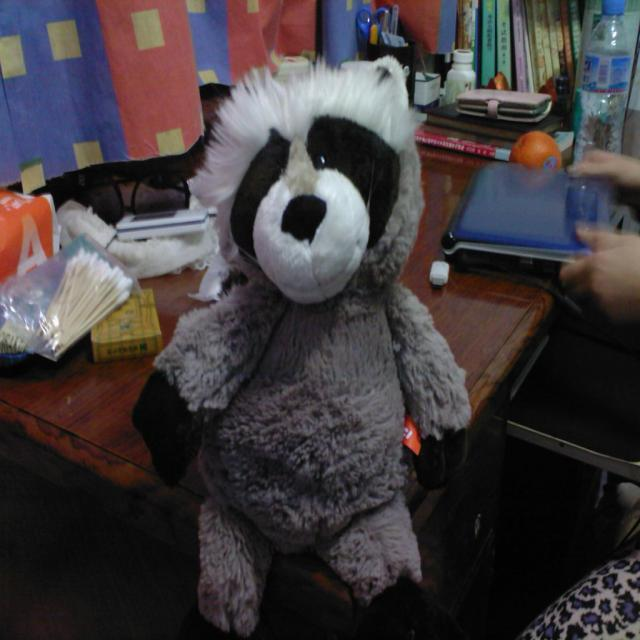panda: (122, 30, 476, 639)
